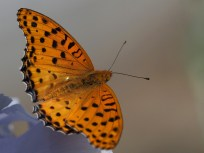Argyreus hyperbius: (14, 5, 153, 149)
butterfly: (16, 7, 155, 151)
